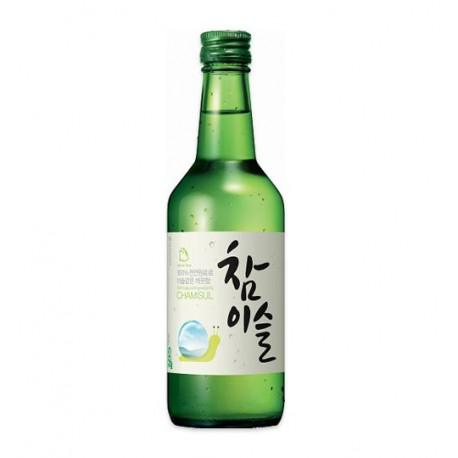soju: (163, 27, 291, 430)
